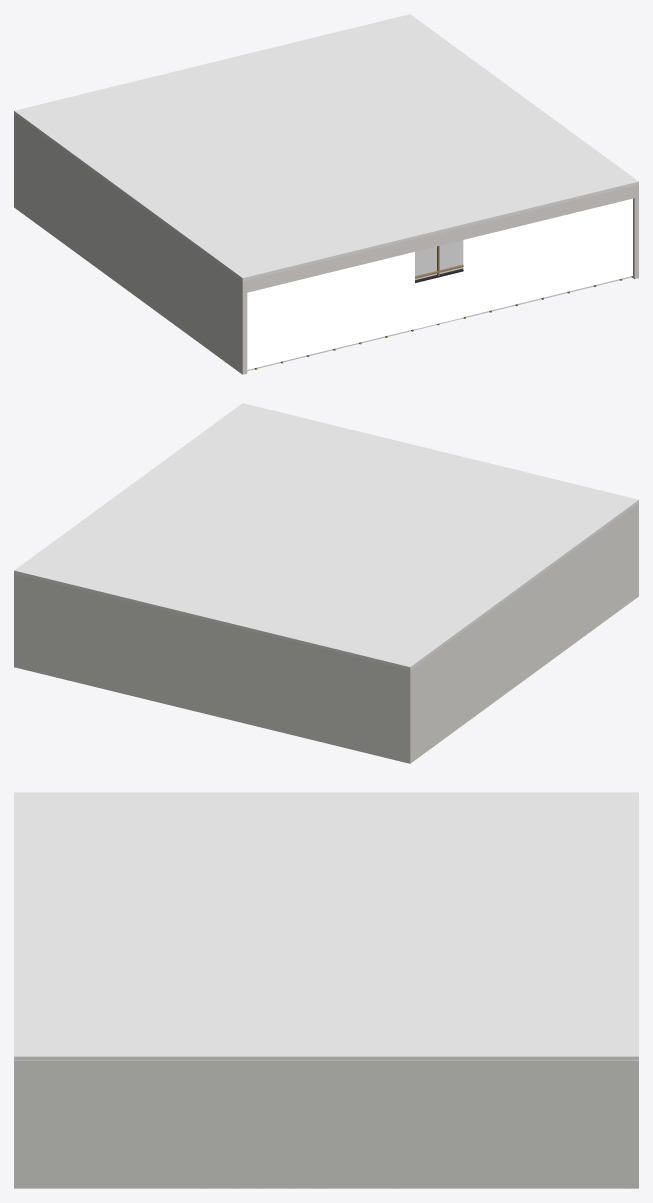
File: int_naija_home.glb
3 renders of one model, top to bottom at view 1: azimuth 30°, elevation 25°; view 2: azimuth 150°, elevation 25°; view 3: azimuth 270°, elevation 25°, orthographic. The views are drawn at different scales.
Parts seen in each view (by area): view 1: ROOM, WALL_0, WALL_1, WALL_2; view 2: ROOM, WALL_3, WALL_1; view 3: ROOM, WALL_2.
Part boxes in pixels (x1,y1,x2,y2): ROOM: (14, 14, 638, 370); WALL_0: (240, 186, 634, 369); WALL_1: (16, 116, 247, 374); WALL_2: (631, 184, 638, 279); ROOM: (14, 403, 638, 670); WALL_3: (18, 575, 412, 763); WALL_1: (405, 503, 638, 763); ROOM: (14, 792, 638, 1060); WALL_2: (14, 1060, 638, 1188).
Bounding box in the file's own units: 26.6 × 6.2 × 26.6.
12 materials, 5 textured.
